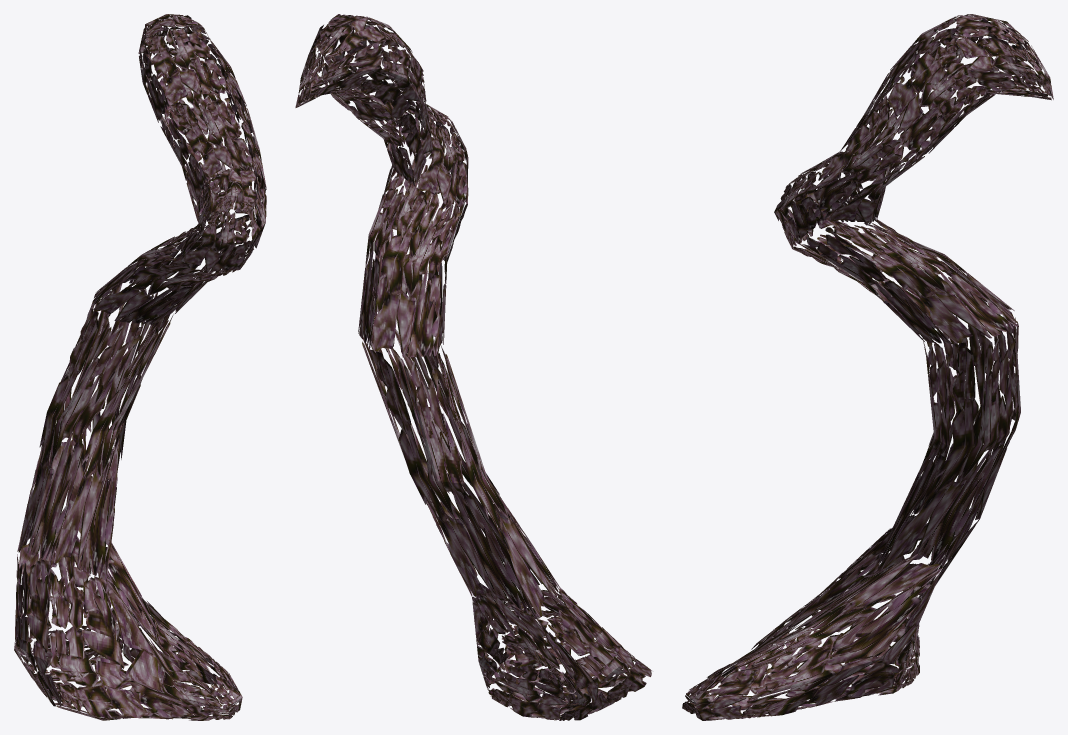
The model's file is Gut_1.fbx.
3 renders of one model, left to right at view 1: azimuth 30°, elevation 25°; view 2: azimuth 150°, elevation 25°; view 3: azimuth 270°, elevation 25°, orthographic. The views are drawn at different scales.
Visible parts, largest first — view 1: Cube.001; view 2: Cube.001; view 3: Cube.001.
Boxes of the visible parts, bbox=[...] form: Cube.001: bbox=[14, 14, 266, 720]; Cube.001: bbox=[295, 14, 651, 720]; Cube.001: bbox=[682, 14, 1053, 720].
Size of the model in its own units: 405 by 1005 by 458.
Materials: 1 (1 with a texture image).
